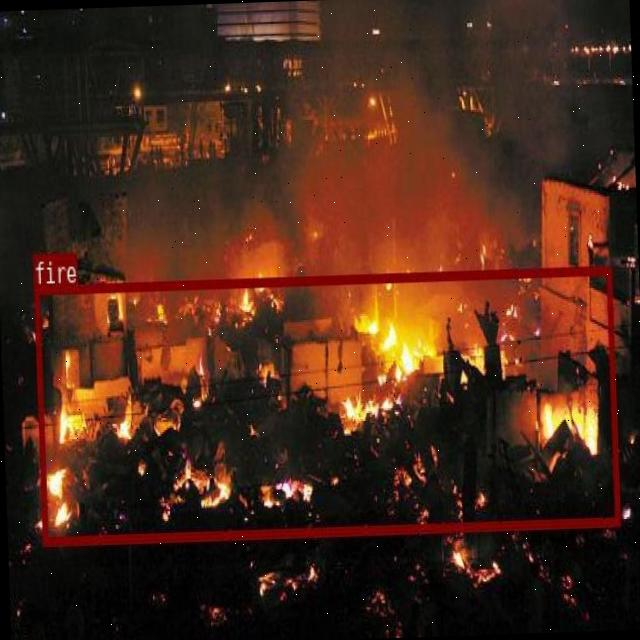fire: (34, 266, 618, 545)
